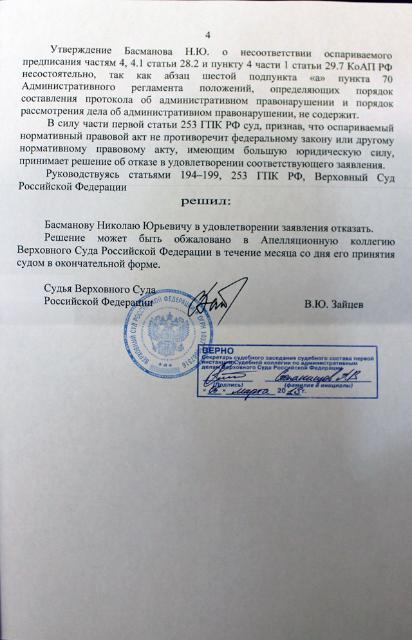stamp: (122, 287, 211, 377)
